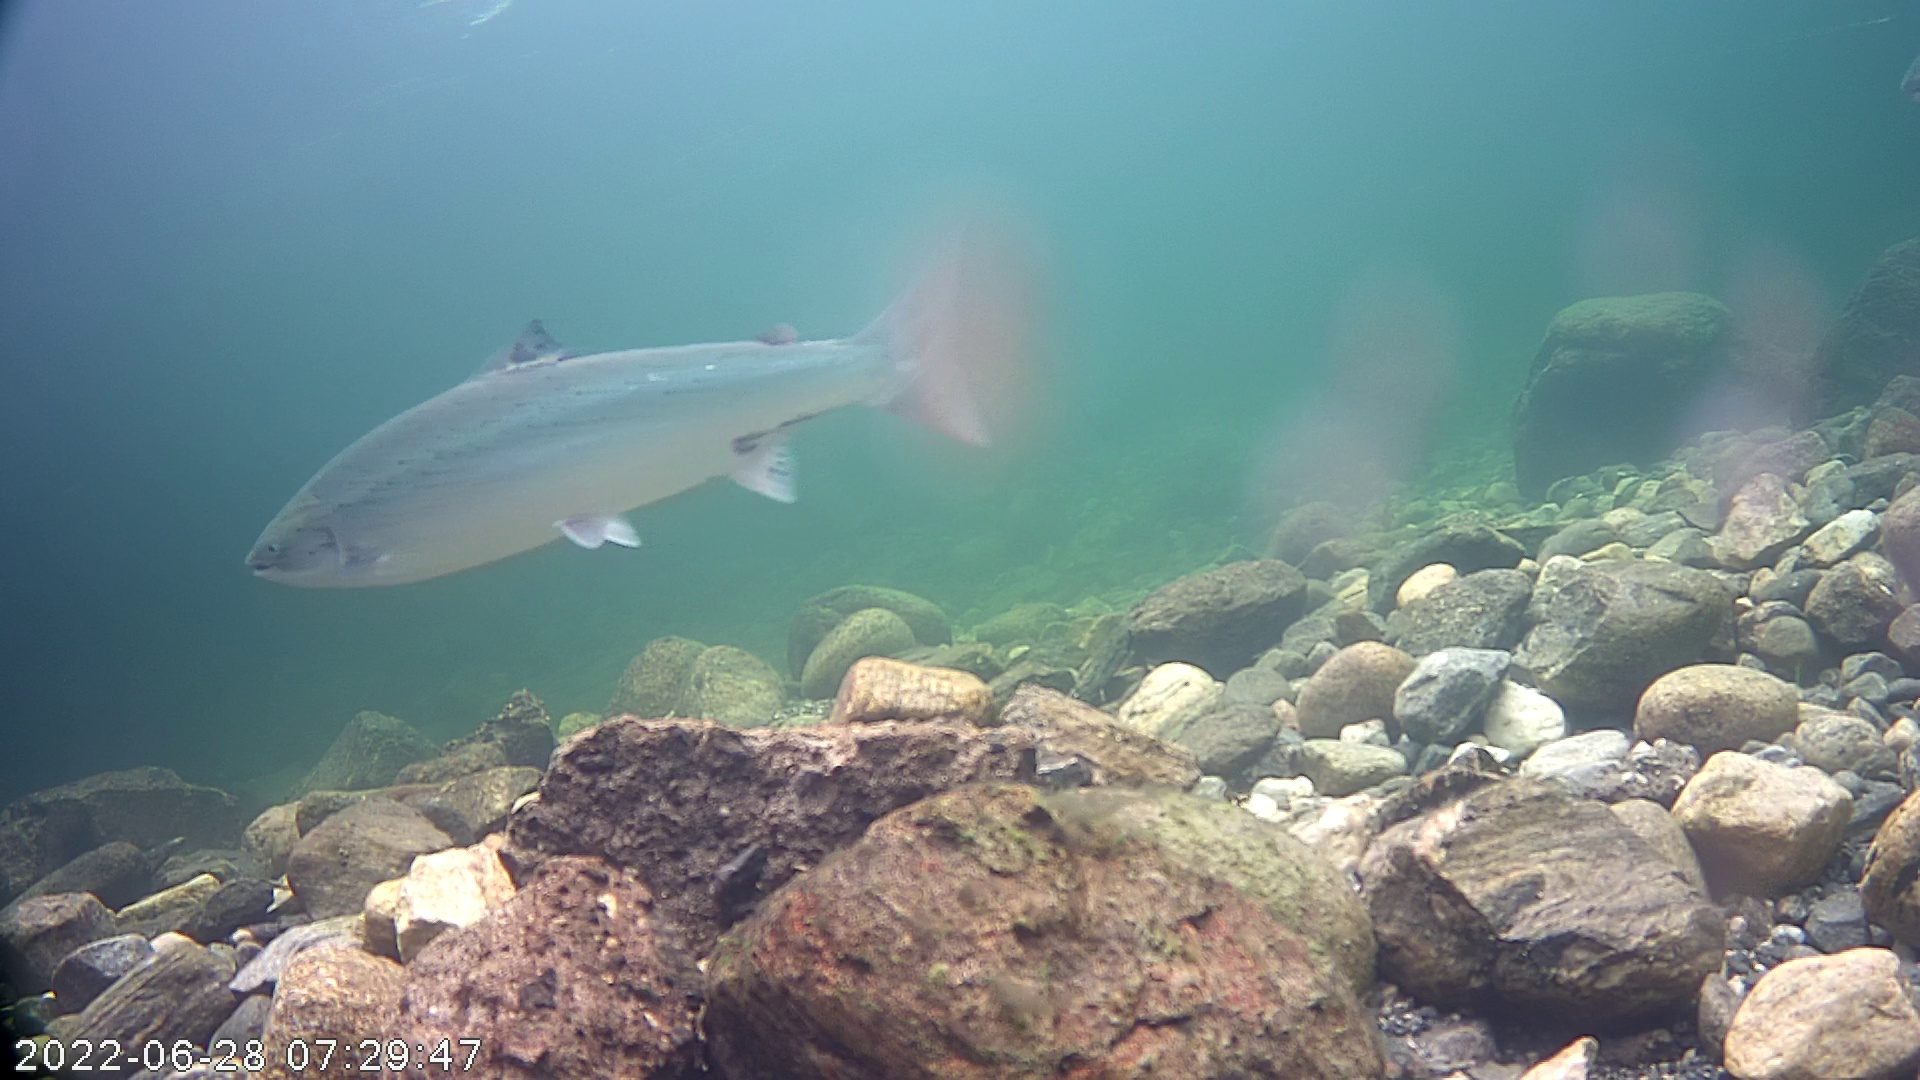salmon: (232, 173, 1033, 628)
